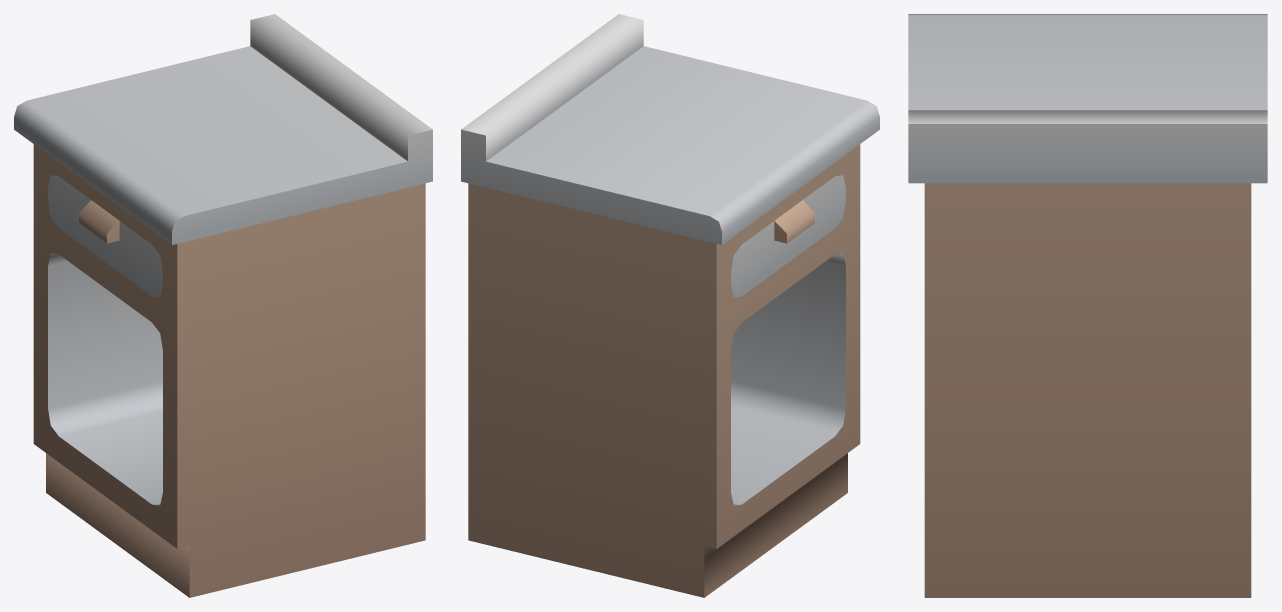
The model's file is cabinet-basic-drawer.glb.
3 views of the same model, side by side, from view 1: azimuth 30°, elevation 25°; view 2: azimuth 150°, elevation 25°; view 3: azimuth 270°, elevation 25° (orthographic). The views are drawn at different scales.
Visible parts, largest first — view 1: cabinet-basic-drawer; view 2: cabinet-basic-drawer; view 3: cabinet-basic-drawer.
Boxes of the visible parts, bbox=[...] form: cabinet-basic-drawer: bbox=[14, 14, 432, 597]; cabinet-basic-drawer: bbox=[461, 14, 879, 597]; cabinet-basic-drawer: bbox=[908, 14, 1267, 597].
Bounding box in the file's own units: 0.525 × 0.8 × 0.55.
